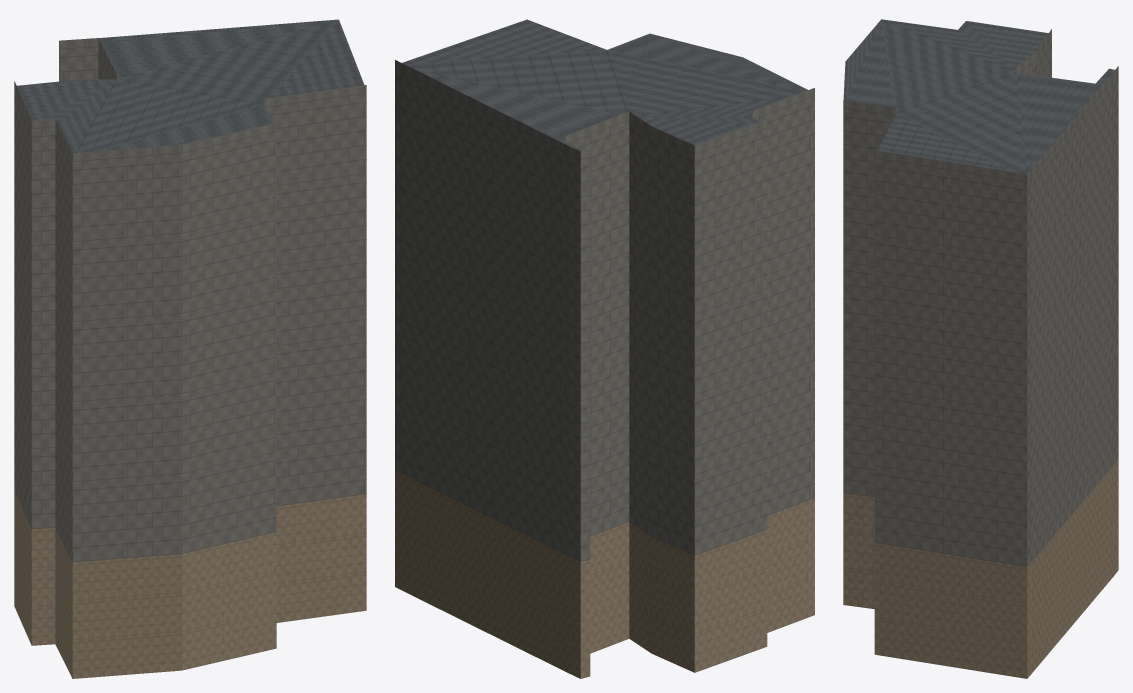
Rendered from core_0127.gltf.
The picture shows the model from 3 angles, left to right: view 1: azimuth 30°, elevation 25°; view 2: azimuth 150°, elevation 25°; view 3: azimuth 270°, elevation 25°; orthographic projection. The views are drawn at different scales.
Visible parts, largest first — view 1: core_0127; view 2: core_0127; view 3: core_0127.
Boxes of the visible parts, box(x1,y1,x2,y2) form: core_0127: box(14, 19, 366, 678); core_0127: box(395, 19, 814, 678); core_0127: box(843, 19, 1118, 678).
Bounding box in the file's own units: 15.66 × 22.98 × 11.37.
3 materials, 3 textured.
